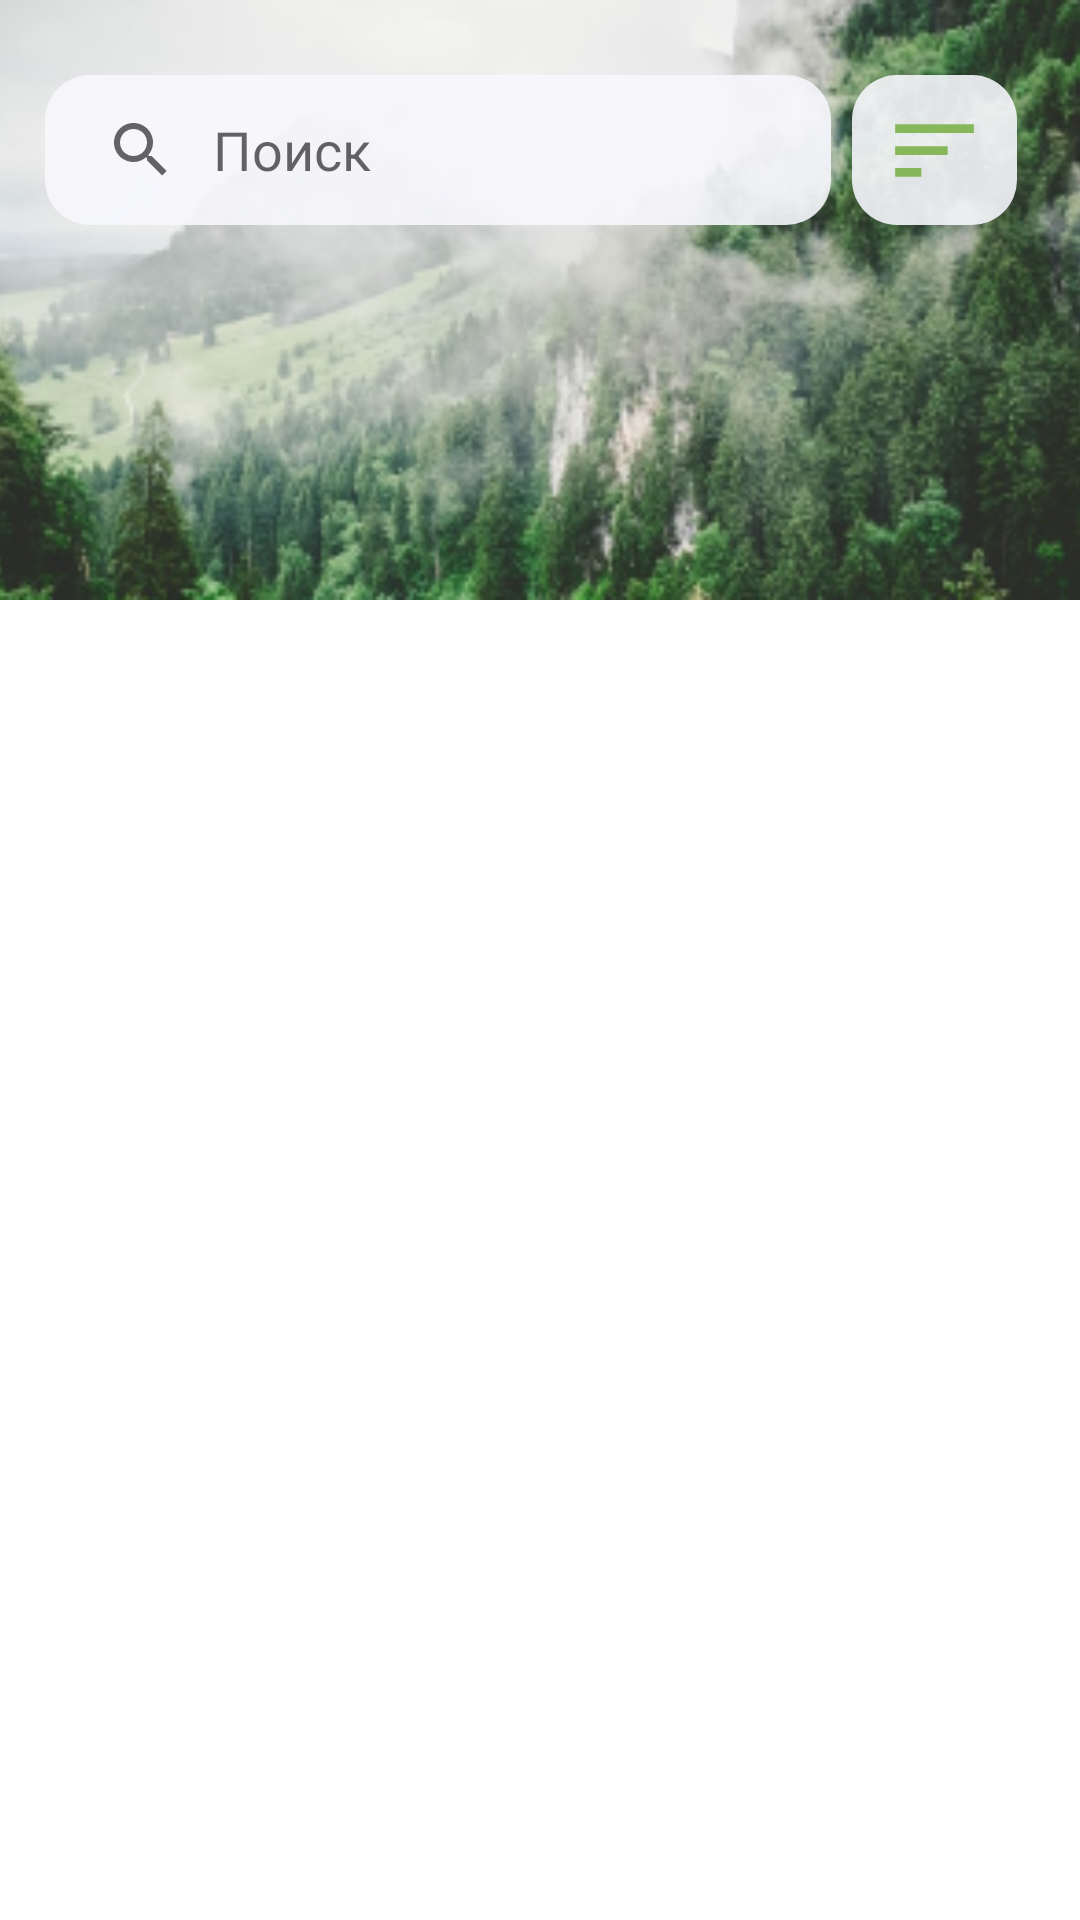

Icons on this 1080w x 1920h Android screen, each with the point to tap as point (x, y):
sort: point (934, 150)
